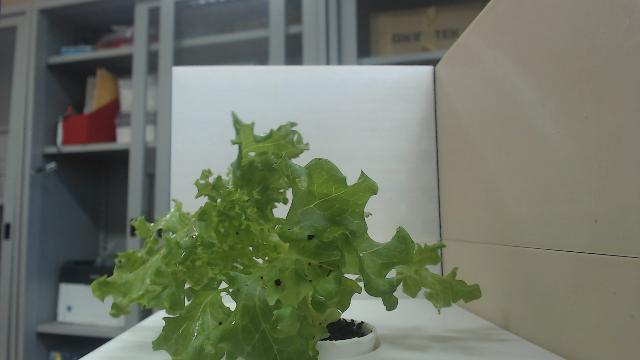Harvest Stage: (90, 109, 484, 360)
